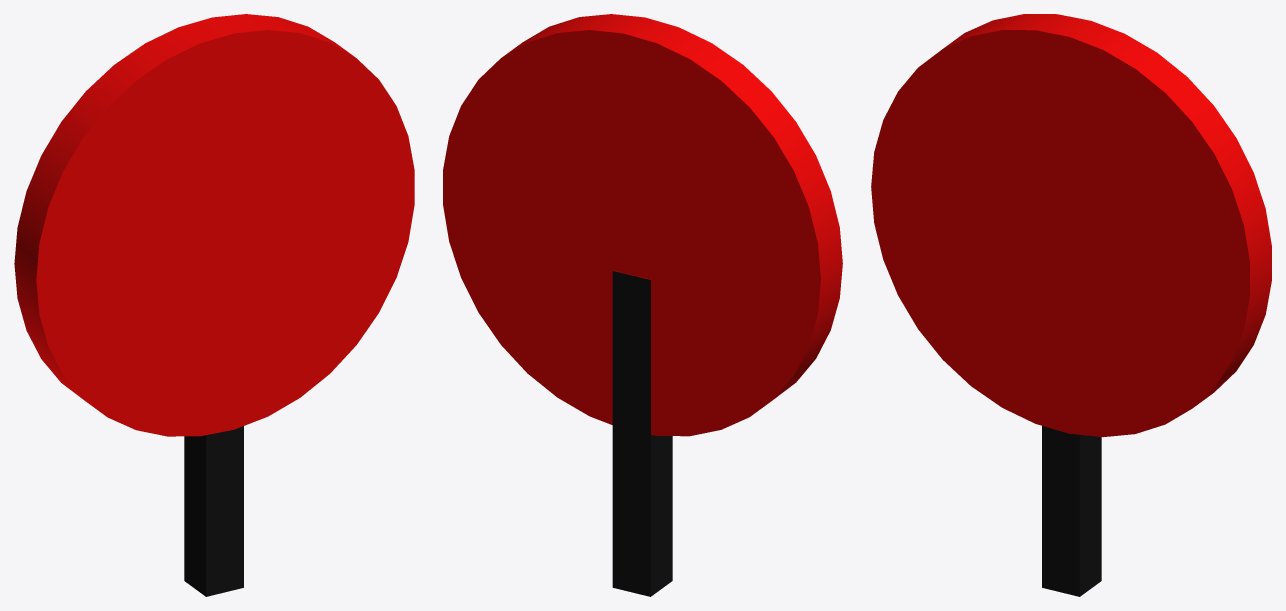
The model's file is target.fbx.
The picture shows the model from 3 angles, left to right: view 1: azimuth 30°, elevation 25°; view 2: azimuth 150°, elevation 25°; view 3: azimuth 330°, elevation 25°; orthographic projection.
Visible parts, largest first — view 1: OuterZone; view 2: OuterZone; view 3: OuterZone.
Part boxes in pixels (left/top/right/bottom): OuterZone: left=14, top=14, right=414, bottom=596; OuterZone: left=443, top=14, right=842, bottom=596; OuterZone: left=871, top=14, right=1271, bottom=596.
Size of the model in its own units: 24.95 by 35.11 by 2.54.
